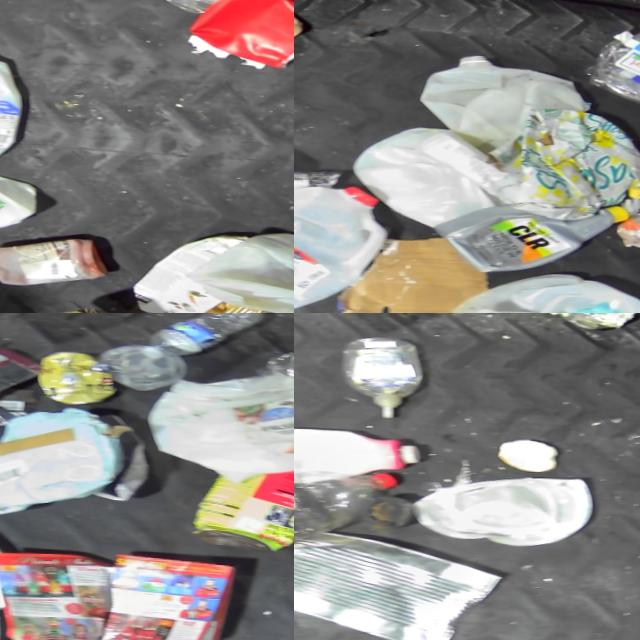can: (294, 525, 499, 640), (191, 463, 294, 550), (35, 348, 116, 405), (175, 297, 294, 313), (539, 313, 637, 329)
milk_jug: (346, 119, 516, 234), (142, 363, 294, 483), (413, 47, 590, 142), (294, 173, 390, 313), (128, 227, 244, 313), (441, 263, 640, 313), (185, 226, 294, 313), (294, 421, 419, 486), (0, 156, 39, 232)
non_white_jug: (430, 188, 627, 276)
plastic_bottle: (294, 461, 393, 556), (137, 313, 264, 361)
